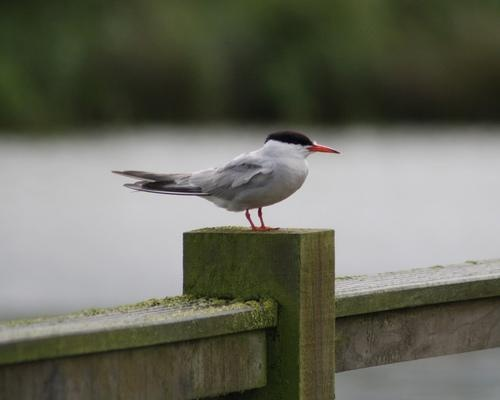bird: (118, 128, 341, 236)
